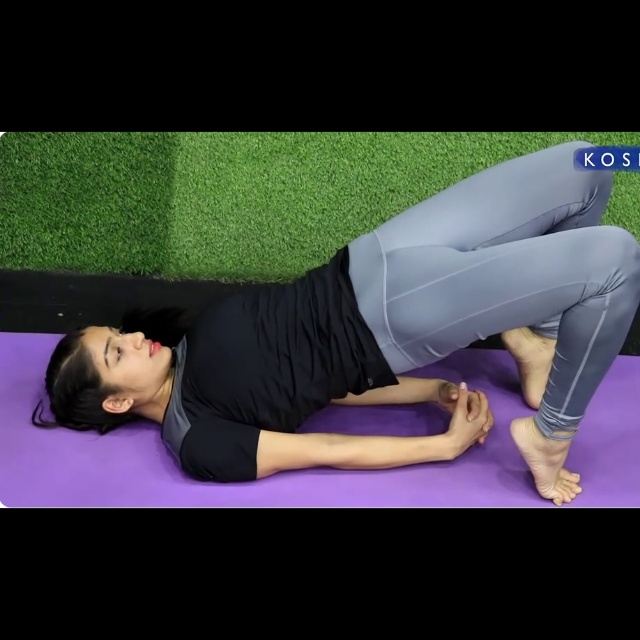Bridge_Pose: (33, 139, 640, 507)
